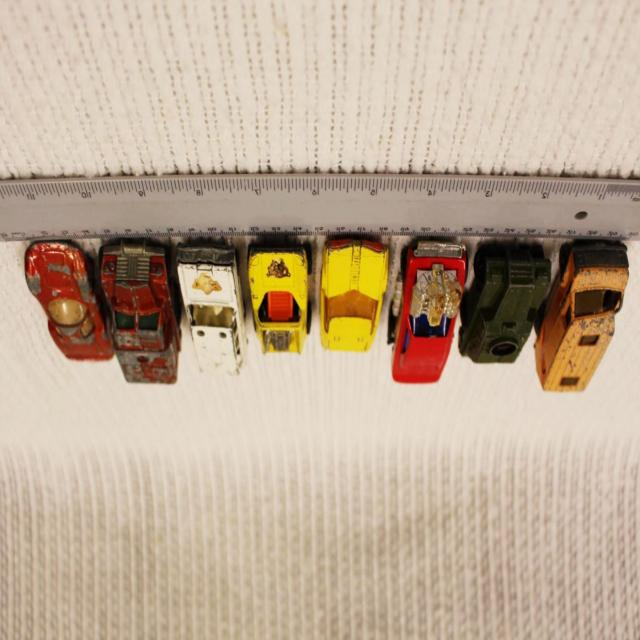Car: (534, 241, 630, 394), (98, 239, 181, 386), (387, 240, 468, 385), (24, 241, 114, 363), (175, 242, 248, 378), (319, 238, 389, 354), (248, 245, 312, 356)
